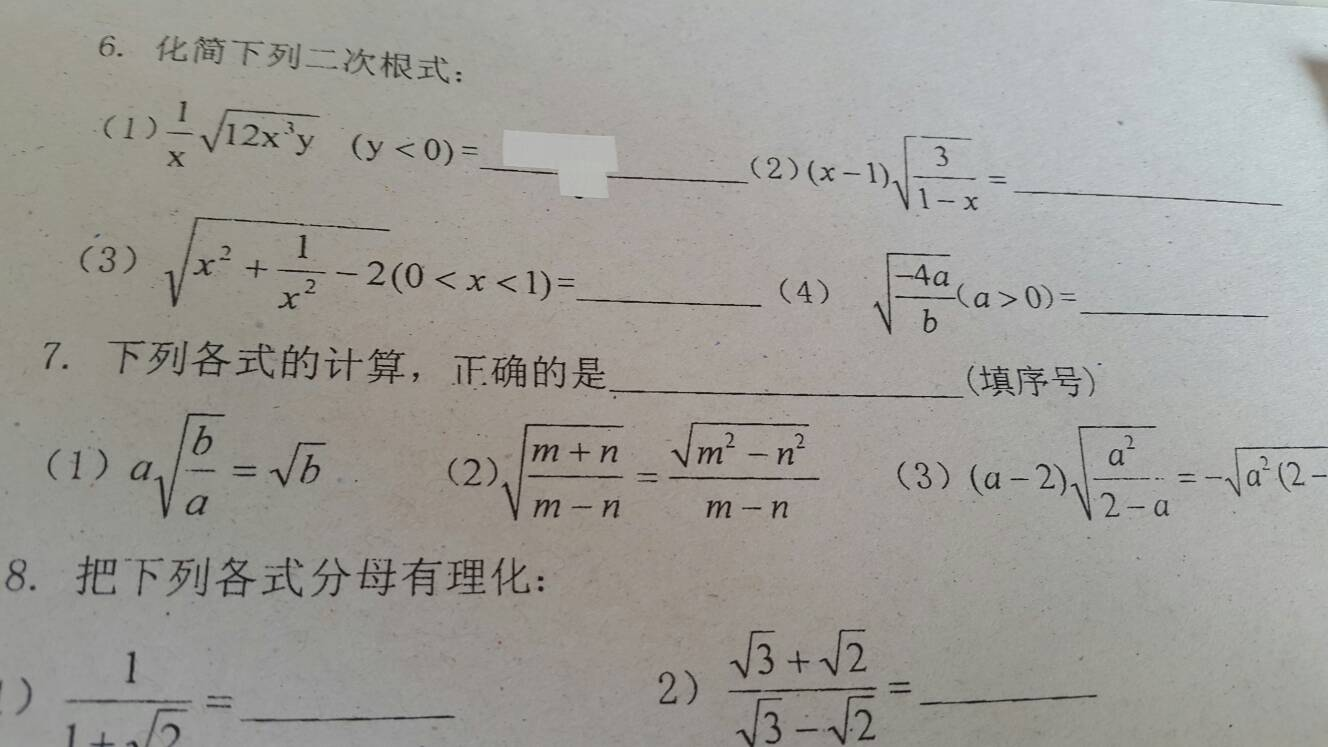cube: (277, 117, 298, 138)
division: (668, 471, 835, 488), (517, 464, 627, 489), (910, 168, 981, 189), (889, 286, 962, 305), (1091, 471, 1164, 488), (272, 261, 331, 279), (176, 458, 217, 481), (161, 125, 197, 144)
sqrt: (165, 208, 394, 315), (498, 417, 624, 532), (1066, 412, 1173, 536), (894, 122, 991, 226), (673, 412, 820, 471), (872, 247, 962, 338), (158, 408, 229, 522), (202, 100, 320, 166), (1227, 440, 1328, 502), (269, 435, 332, 495), (728, 622, 786, 682), (820, 622, 879, 677), (740, 692, 790, 747), (832, 692, 878, 747)
square: (1256, 450, 1276, 476), (722, 430, 748, 448), (791, 432, 810, 455), (298, 276, 317, 298), (222, 242, 239, 260), (1126, 429, 1138, 453)
